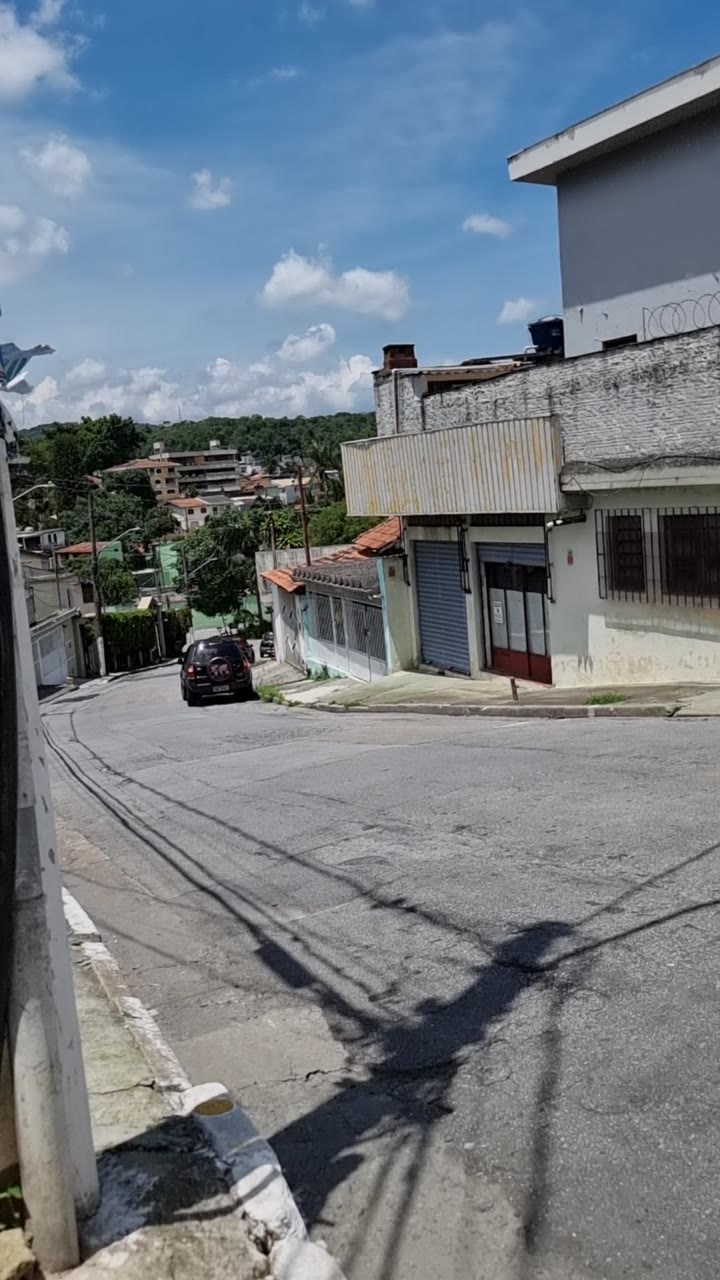desnivel: (60, 906, 356, 1280)
